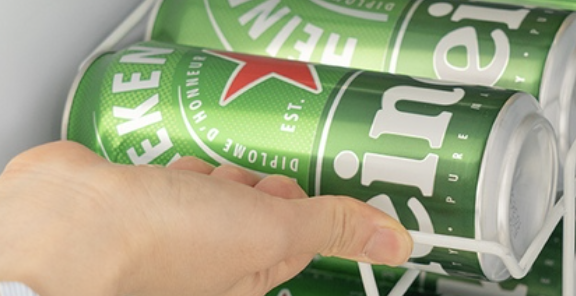beer-can: (60, 40, 559, 281), (144, 0, 576, 189)
